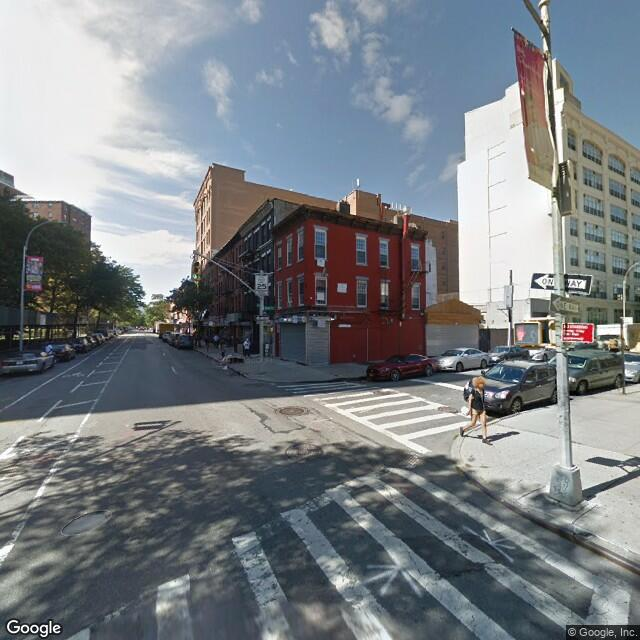litter: (220, 348, 248, 372)
